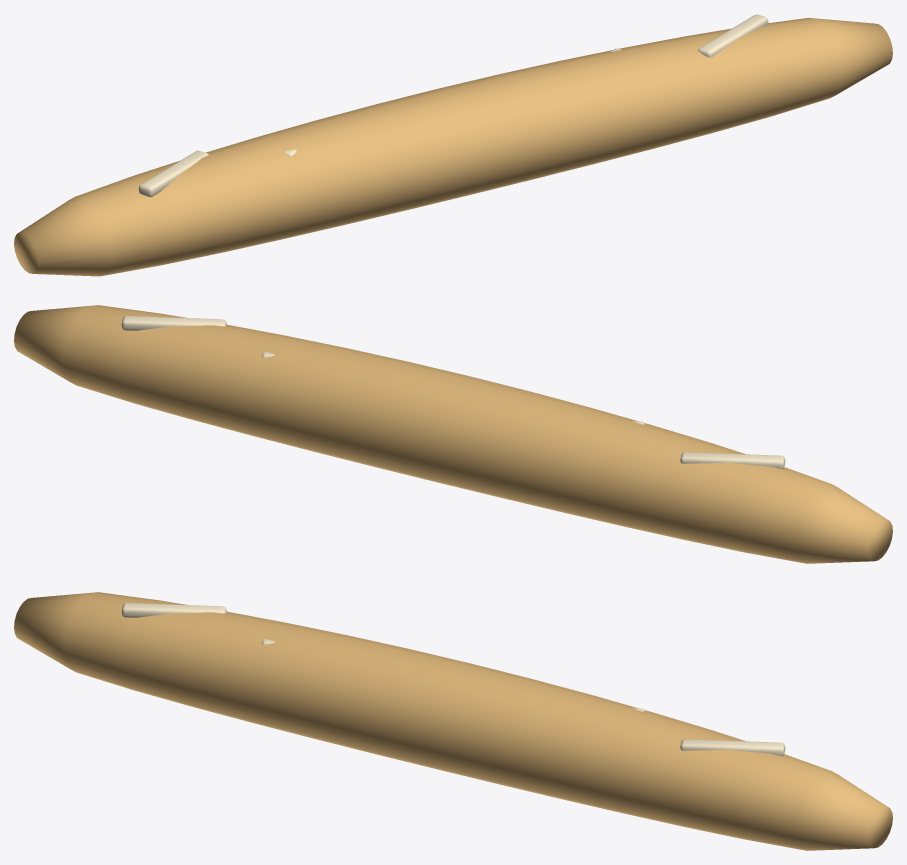
The model's file is SM_Baguette.glb.
3 views of the same model, one above another, from view 1: azimuth 30°, elevation 25°; view 2: azimuth 150°, elevation 25°; view 3: azimuth 330°, elevation 25° (orthographic).
Parts seen in each view (by area): view 1: SM_Baguette; view 2: SM_Baguette; view 3: SM_Baguette.
Part boxes in pixels (x1=…): SM_Baguette: x1=14, y1=14, x2=892, y2=276; SM_Baguette: x1=14, y1=305, x2=892, y2=563; SM_Baguette: x1=14, y1=592, x2=892, y2=850.
Bounding box in the file's own units: 0.5205 × 0.0552 × 0.066.
